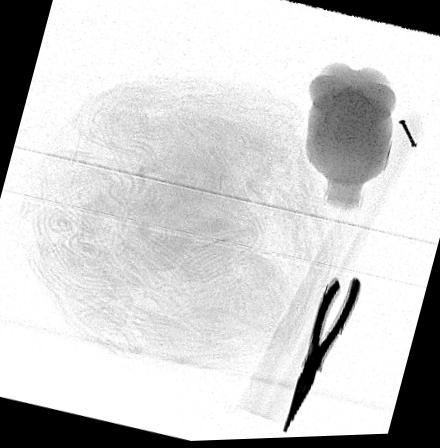Pliers: (281, 278, 361, 434)
